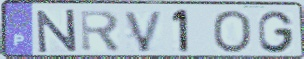1: (170, 8, 191, 55)
G: (256, 9, 296, 55)
N: (35, 8, 80, 55)
O: (211, 9, 254, 55)
R: (78, 9, 122, 54)
V: (122, 9, 166, 54)
